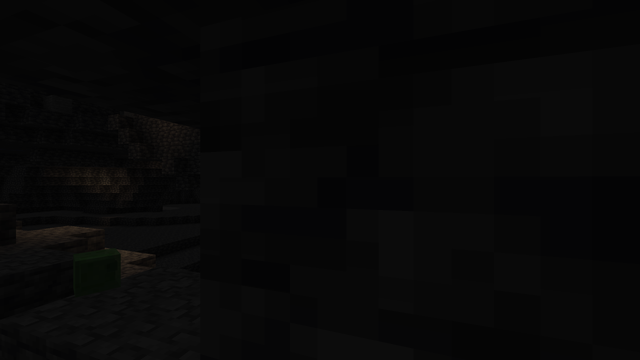slimes: (64, 246, 125, 296)
